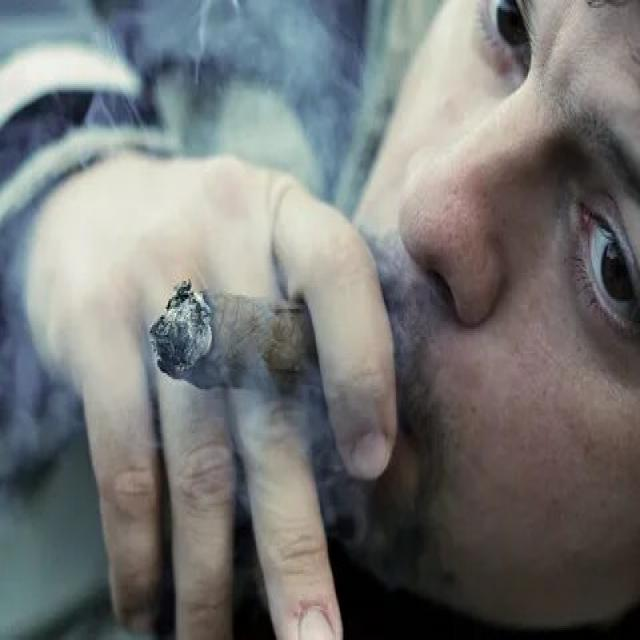smoke: (151, 261, 332, 409)
